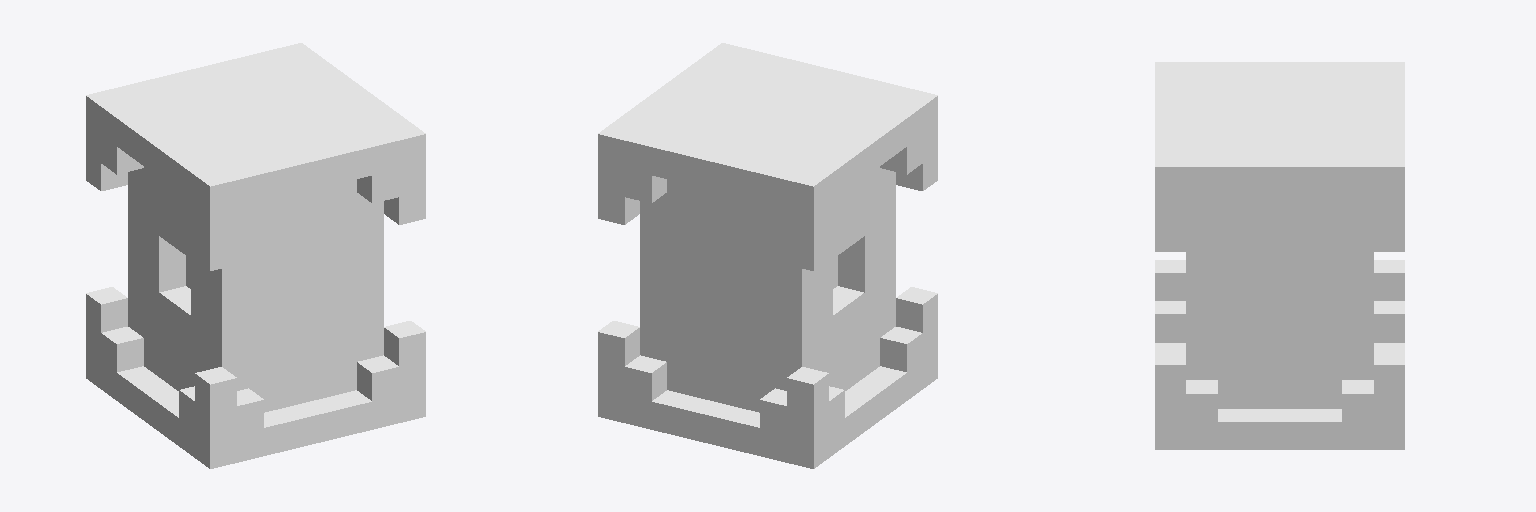
Rendered from rightRotator.obj.
3 views of the same model, side by side, from view 1: azimuth 30°, elevation 25°; view 2: azimuth 150°, elevation 25°; view 3: azimuth 270°, elevation 25° (orthographic).
Visible parts, largest first — view 1: object 1; view 2: object 1; view 3: object 1.
Boxes of the visible parts, x1=… form: object 1: x1=86, y1=43, x2=425, y2=468; object 1: x1=598, y1=43, x2=937, y2=468; object 1: x1=1155, y1=62, x2=1404, y2=449.
Bounding box in the file's own units: 0.8 × 1 × 0.8.